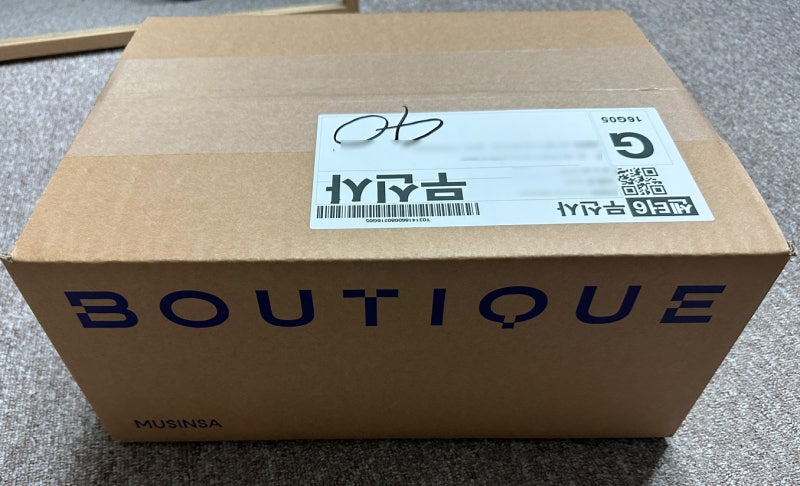undamaged: (0, 6, 799, 452)
